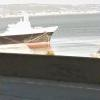Boat: (2, 11, 59, 55)
